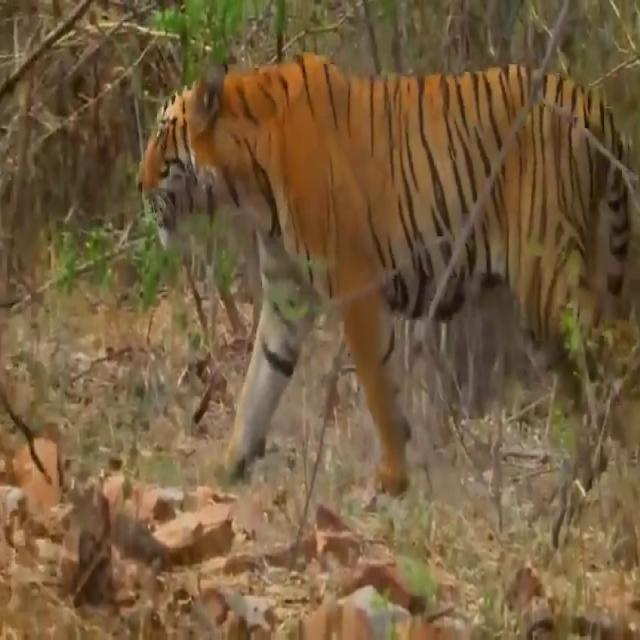tiger: (135, 52, 640, 494)
